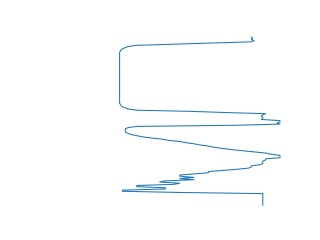aeolianDune: (114, 36, 267, 118)
beach: (121, 117, 283, 160)
proximalDeepseaFan: (117, 159, 268, 207)
